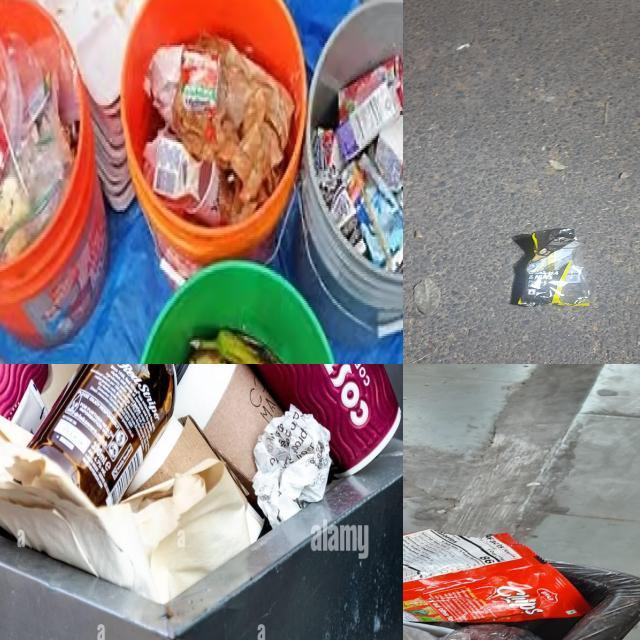Background: (427, 161, 640, 364)
Disposable: (253, 364, 400, 476)
Garbage: (0, 364, 399, 603), (403, 530, 589, 640), (313, 54, 403, 272), (0, 34, 79, 264)
Glass_bottle: (29, 364, 180, 505)
Plastic_Bag: (0, 36, 79, 263)
Plastic_wraper: (403, 529, 589, 623), (514, 228, 589, 306)
Tetrapack: (313, 128, 366, 236), (336, 84, 401, 161), (358, 178, 403, 271)
